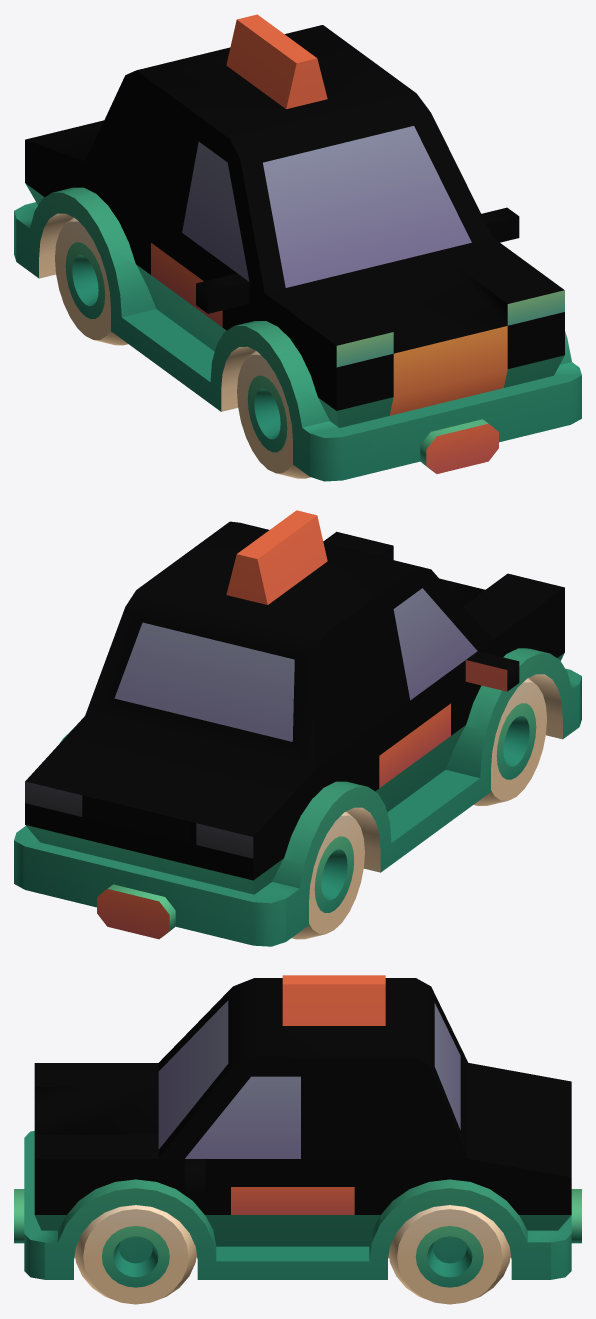
File: taxi.glb
3 views of the same model, one above another, from view 1: azimuth 30°, elevation 25°; view 2: azimuth 150°, elevation 25°; view 3: azimuth 270°, elevation 25° (orthographic). The views are drawn at different scales.
Parts seen in each view (by area): view 1: body, wheel-front-right, wheel-back-right; view 2: body, wheel-back-right, wheel-front-right; view 3: body, wheel-back-left, wheel-front-left.
Boxes of the visible parts, x1,y1,x2,y2 form: body: [14, 14, 581, 481]; wheel-front-right: [237, 350, 310, 478]; wheel-back-right: [55, 217, 128, 345]; body: [14, 510, 581, 946]; wheel-back-right: [291, 811, 364, 939]; wheel-front-right: [473, 678, 546, 805]; body: [14, 975, 581, 1279]; wheel-back-left: [388, 1205, 510, 1304]; wheel-front-left: [75, 1205, 196, 1304].
Size of the model in its own units: 1.5 by 1.5 by 2.75.
Materials: 1 (1 with a texture image).
